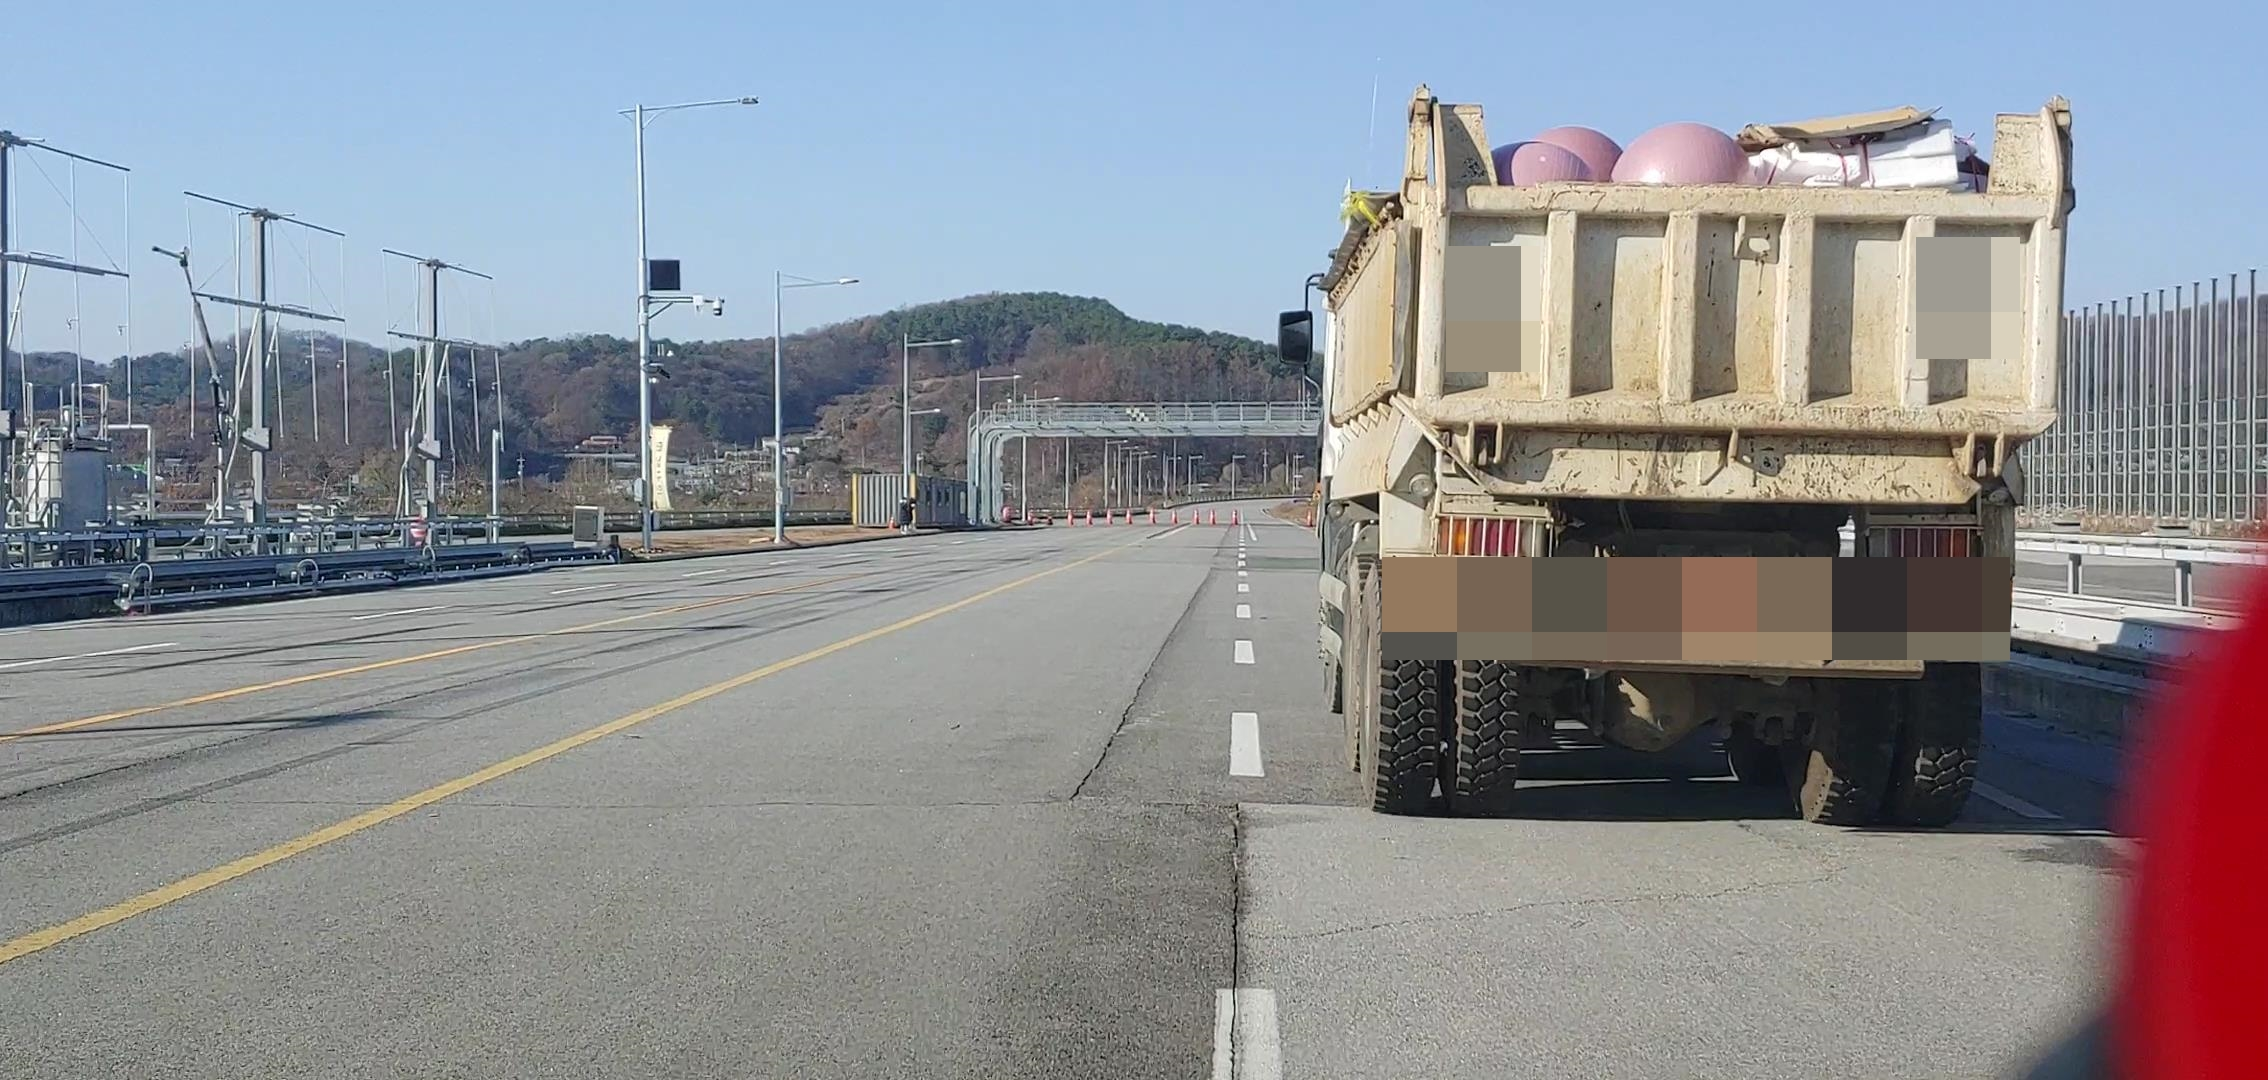불법차량: (1278, 85, 2074, 831)
